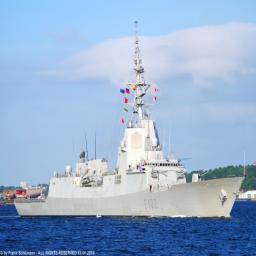Fragata: (12, 21, 247, 222)
